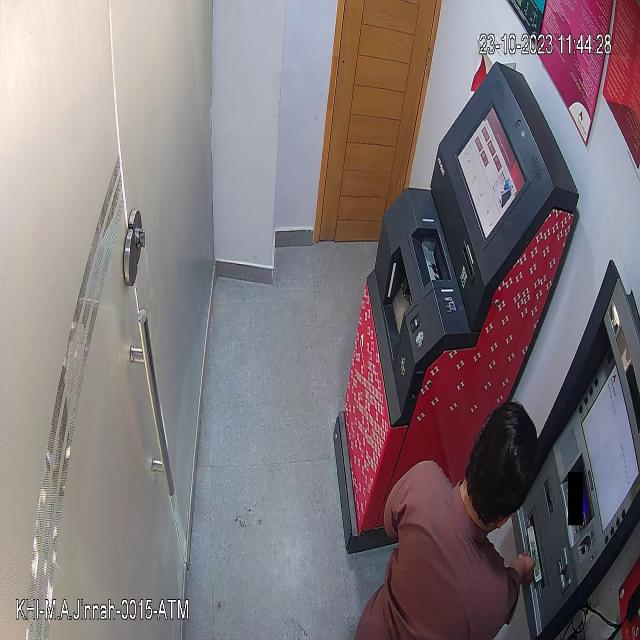note: (523, 520, 544, 583)
